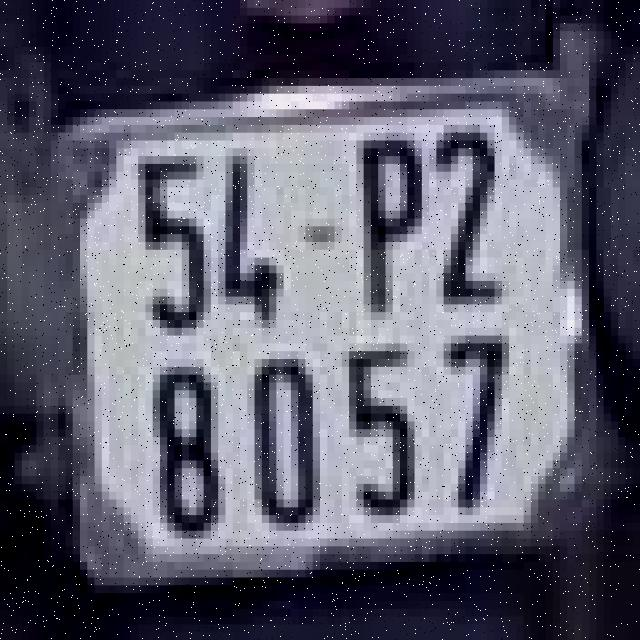0: (240, 347, 327, 527)
2: (429, 110, 509, 304)
4: (211, 129, 291, 339)
5: (338, 344, 426, 554), (127, 148, 215, 344)
7: (432, 316, 512, 527)
8: (138, 352, 233, 546)
P: (349, 128, 429, 332)
